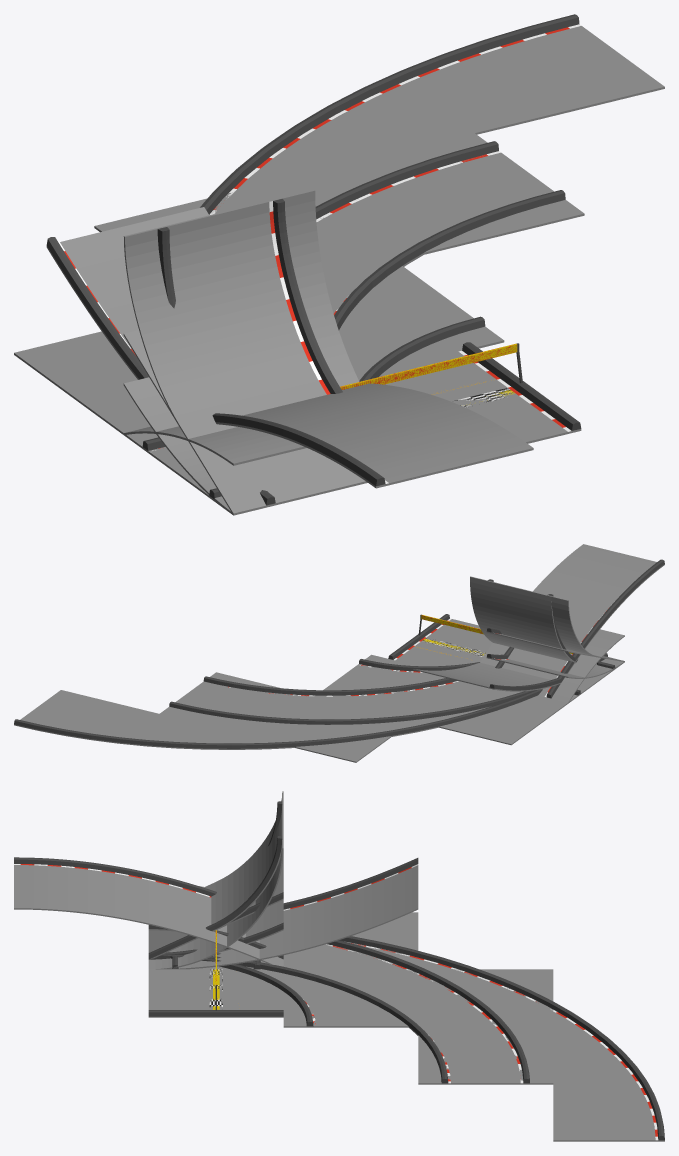
The model's file is road_wide.glb.
3 renders of one model, top to bottom at view 1: azimuth 30°, elevation 25°; view 2: azimuth 150°, elevation 25°; view 3: azimuth 270°, elevation 25°, orthographic. The views are drawn at different scales.
Visible parts, largest first — view 1: SlopeToVerticalWide, TurnLongLeftWide, TurnShortLeftWide, TurnLongRightWide, SlopeDownLongWide, TurnShortRightWide, CheckpointWide, SlopeUpLongWide, SlopeWide, SlopeUpVerticalWide, SlopeDownWide, FinishWide (+2 smaller); view 2: TurnLongRightWide, TurnLongLeftWide, SlopeDownLongWide, TurnShortLeftWide, SlopeUpVerticalWide, CheckpointWide, TurnShortRightWide, SlopeUpLongWide, SlopeDownWide, FinishWide, StartWide, SlopeToVerticalWide (+2 smaller); view 3: TurnLongLeftWide, TurnShortLeftWide, SlopeDownLongWide, TurnLongRightWide, SlopeUpLongWide, TurnShortRightWide, CheckpointWide, SlopeToVerticalWide, SlopeUpVerticalWide, FinishWide, SlopeUpWide, SlopeWide (+1 smaller).
Part boxes in pixels (bbox=[...]): SlopeToVerticalWide: bbox=[123, 198, 364, 494]; TurnLongLeftWide: bbox=[200, 14, 664, 504]; TurnShortLeftWide: bbox=[266, 141, 584, 507]; TurnLongRightWide: bbox=[14, 133, 565, 514]; SlopeDownLongWide: bbox=[212, 383, 533, 488]; TurnShortRightWide: bbox=[123, 261, 485, 515]; CheckpointWide: bbox=[340, 342, 581, 484]; SlopeUpLongWide: bbox=[46, 207, 208, 379]; SlopeWide: bbox=[123, 330, 364, 513]; SlopeUpVerticalWide: bbox=[157, 190, 359, 504]; SlopeDownWide: bbox=[124, 426, 306, 465]; FinishWide: bbox=[340, 344, 527, 414]; TurnLongRightWide: bbox=[159, 670, 611, 762]; TurnLongLeftWide: bbox=[14, 682, 542, 749]; SlopeDownLongWide: bbox=[480, 544, 664, 697]; TurnShortLeftWide: bbox=[169, 654, 534, 724]; SlopeUpVerticalWide: bbox=[470, 576, 607, 664]; CheckpointWide: bbox=[388, 614, 572, 698]; TurnShortRightWide: bbox=[315, 659, 624, 710]; SlopeUpLongWide: bbox=[413, 662, 561, 691]; SlopeDownWide: bbox=[495, 629, 624, 702]; FinishWide: bbox=[399, 615, 573, 665]; StartWide: bbox=[390, 616, 548, 696]; SlopeToVerticalWide: bbox=[487, 579, 602, 657]; TurnLongLeftWide: bbox=[191, 936, 664, 1141]; TurnShortLeftWide: bbox=[190, 940, 530, 1084]; SlopeDownLongWide: bbox=[14, 857, 283, 966]; TurnLongRightWide: bbox=[209, 912, 553, 1084]; SlopeUpLongWide: bbox=[163, 858, 418, 969]; TurnShortRightWide: bbox=[149, 955, 418, 1027]; CheckpointWide: bbox=[148, 930, 283, 1017]; SlopeToVerticalWide: bbox=[148, 791, 283, 958]; SlopeUpVerticalWide: bbox=[148, 801, 283, 969]; FinishWide: bbox=[196, 931, 276, 1009]; SlopeUpWide: bbox=[161, 900, 283, 955]; SlopeWide: bbox=[148, 854, 283, 959].
Size of the model in its own units: 80 by 20 by 96.57.
